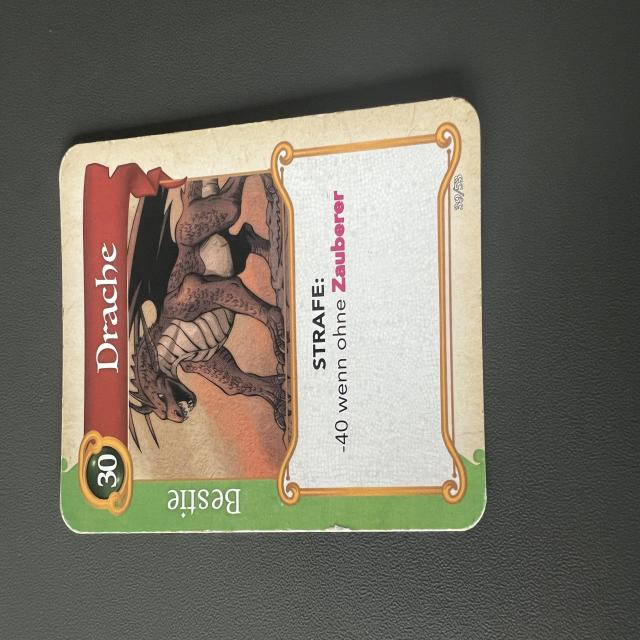test: (59, 97, 486, 533)
